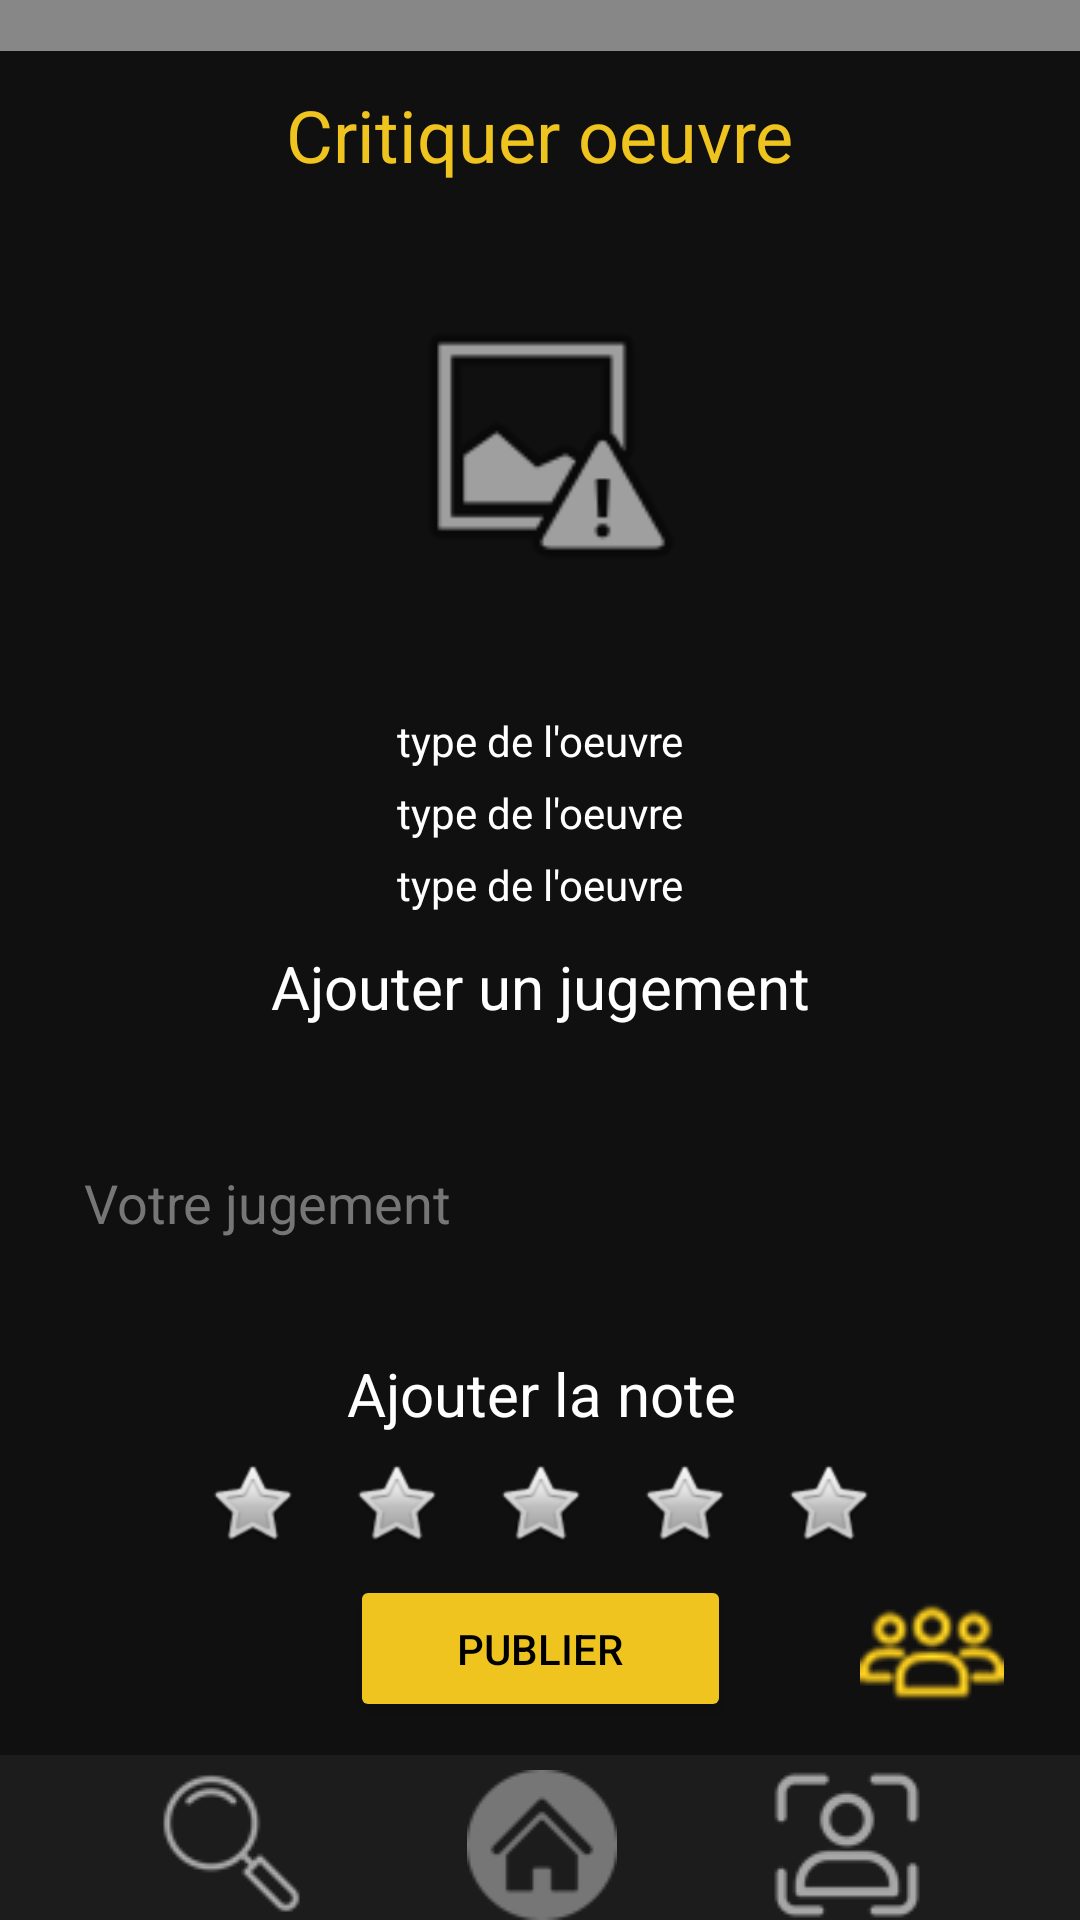

Named icons in this screenshot (1080 × 1920) and their centers, (x,y):
Accueil: (542,1845)
Accéder à tous les jugements: (932,1652)
Profil: (847,1845)
Rechercher: (231,1843)
star: (252,1502), (396,1502), (540,1502), (684,1502), (828,1502)
